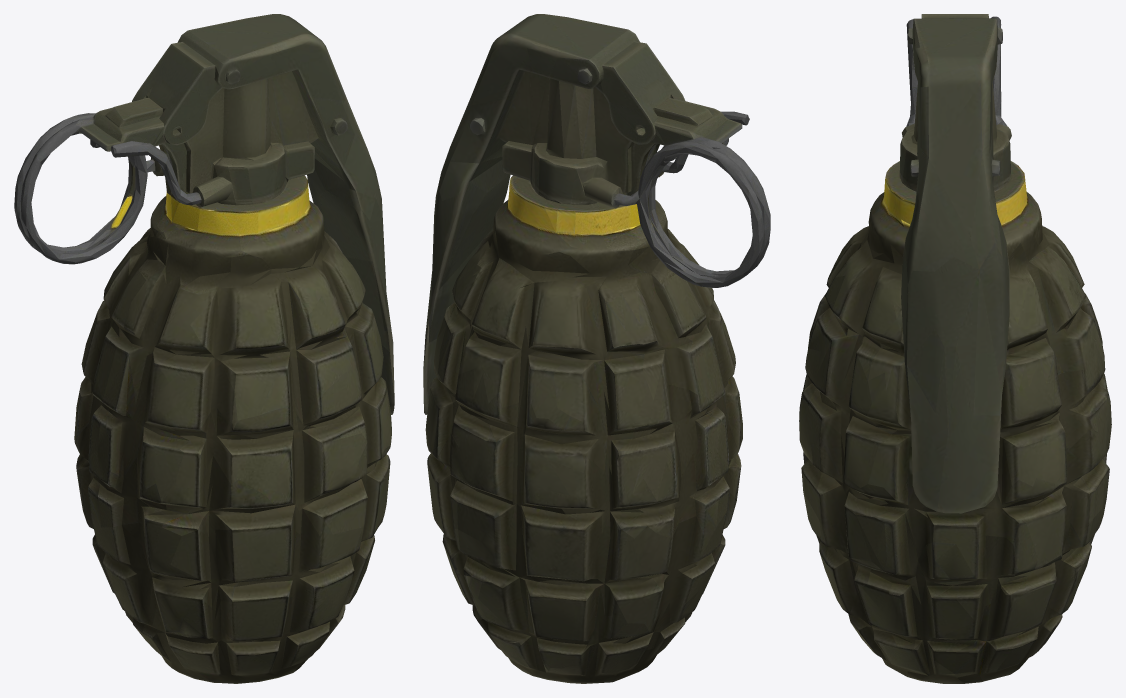
The model's file is frag.glb.
3 renders of one model, left to right at view 1: azimuth 30°, elevation 25°; view 2: azimuth 150°, elevation 25°; view 3: azimuth 270°, elevation 25°, orthographic.
Visible parts, largest first — view 1: Body; view 2: Body; view 3: Body.
Part boxes in pixels (x1,y1,x2,y2): Body: (14, 14, 394, 683); Body: (423, 14, 770, 683); Body: (799, 14, 1111, 683).
Bounding box in the file's own units: 0.0646 × 0.11 × 0.0496.
1 material, 1 textured.
